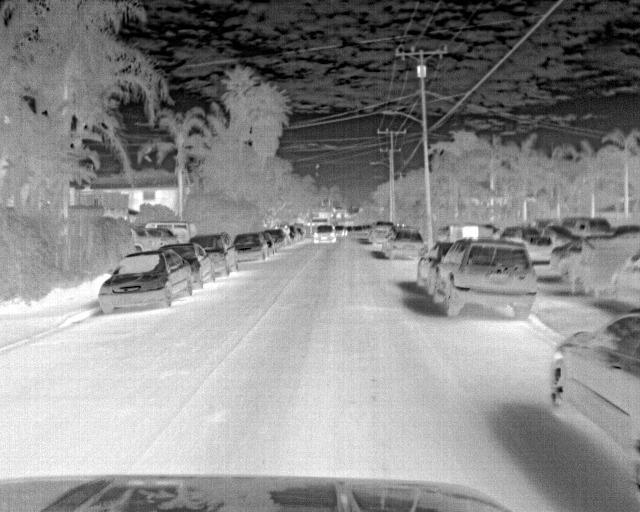car: (543, 314, 636, 461), (436, 242, 534, 320), (93, 251, 195, 320), (184, 233, 238, 275), (160, 245, 216, 282), (496, 224, 552, 260), (412, 243, 450, 287), (546, 239, 584, 282), (553, 216, 612, 242), (145, 220, 199, 243), (228, 229, 268, 259), (383, 232, 423, 261), (367, 221, 399, 247), (141, 226, 176, 249), (128, 226, 156, 249), (309, 221, 338, 241), (267, 228, 288, 249)
